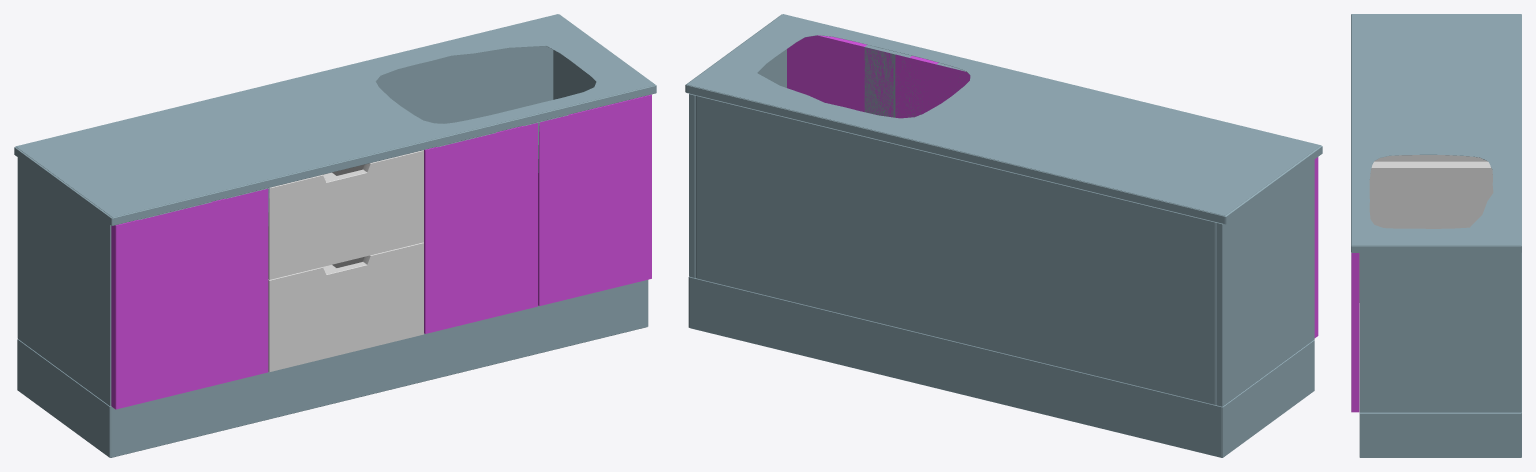
File: mueble 1.FBX
The picture shows the model from 3 angles, left to right: view 1: azimuth 30°, elevation 25°; view 2: azimuth 150°, elevation 25°; view 3: azimuth 270°, elevation 25°; orthographic projection. The views are drawn at different scales.
Visible parts, largest first — view 1: drawer2, encimera, Object003, Object, Object001, drawer, drawer005, Object007; view 2: drawer2, encimera, Object007, Object, Object001, Object003; view 3: drawer2, encimera, drawer005, Object, drawer.
Part boxes in pixels (x1,y1,x2,y2): drawer2: (14,14,656,457); encimera: (16,14,654,217); Object003: (111,188,268,409); Object: (538,94,651,305); Object001: (424,123,537,333); drawer: (268,242,423,371); drawer005: (268,150,423,279); Object007: (17,158,111,406); drawer2: (685,14,1322,457); encimera: (687,14,1320,215); Object007: (1216,161,1314,406); Object: (787,35,893,117); Object001: (895,54,970,118); Object003: (1314,157,1318,337); drawer2: (1351,14,1521,457); encimera: (1351,14,1521,245); drawer005: (1369,155,1493,222); Object: (1351,253,1359,412); drawer: (1359,222,1474,302).
Bounding box in the file's own units: 139 × 59.67 × 43.16.
